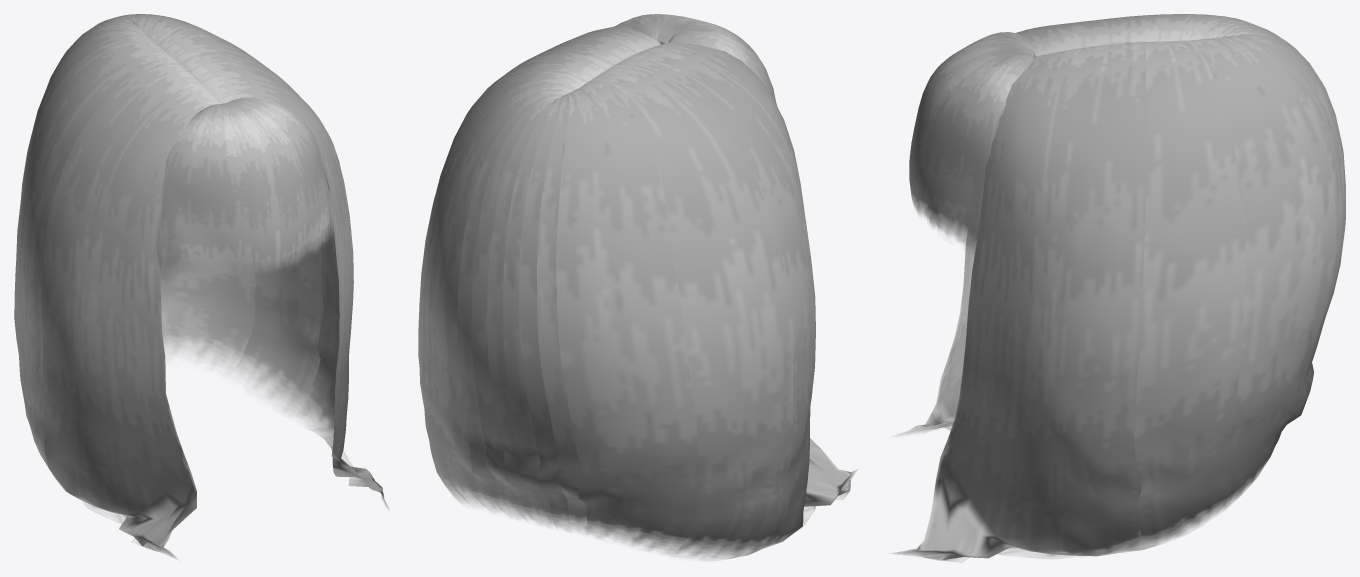
The model's file is daz_hair_inverted_bob_bangs.glb.
3 renders of one model, left to right at view 1: azimuth 30°, elevation 25°; view 2: azimuth 150°, elevation 25°; view 3: azimuth 270°, elevation 25°, orthographic. The views are drawn at different scales.
Visible parts, largest first — view 1: daz_hair_inverted_bob_bangs; view 2: daz_hair_inverted_bob_bangs; view 3: daz_hair_inverted_bob_bangs.
Part boxes in pixels (box(x1,y1,x2,y2)): daz_hair_inverted_bob_bangs: box(14, 14, 388, 559); daz_hair_inverted_bob_bangs: box(418, 14, 856, 560); daz_hair_inverted_bob_bangs: box(891, 14, 1345, 562).
Bounding box in the file's own units: 0.1793 × 0.2358 × 0.211.
Materials: 1 (1 with a texture image).
